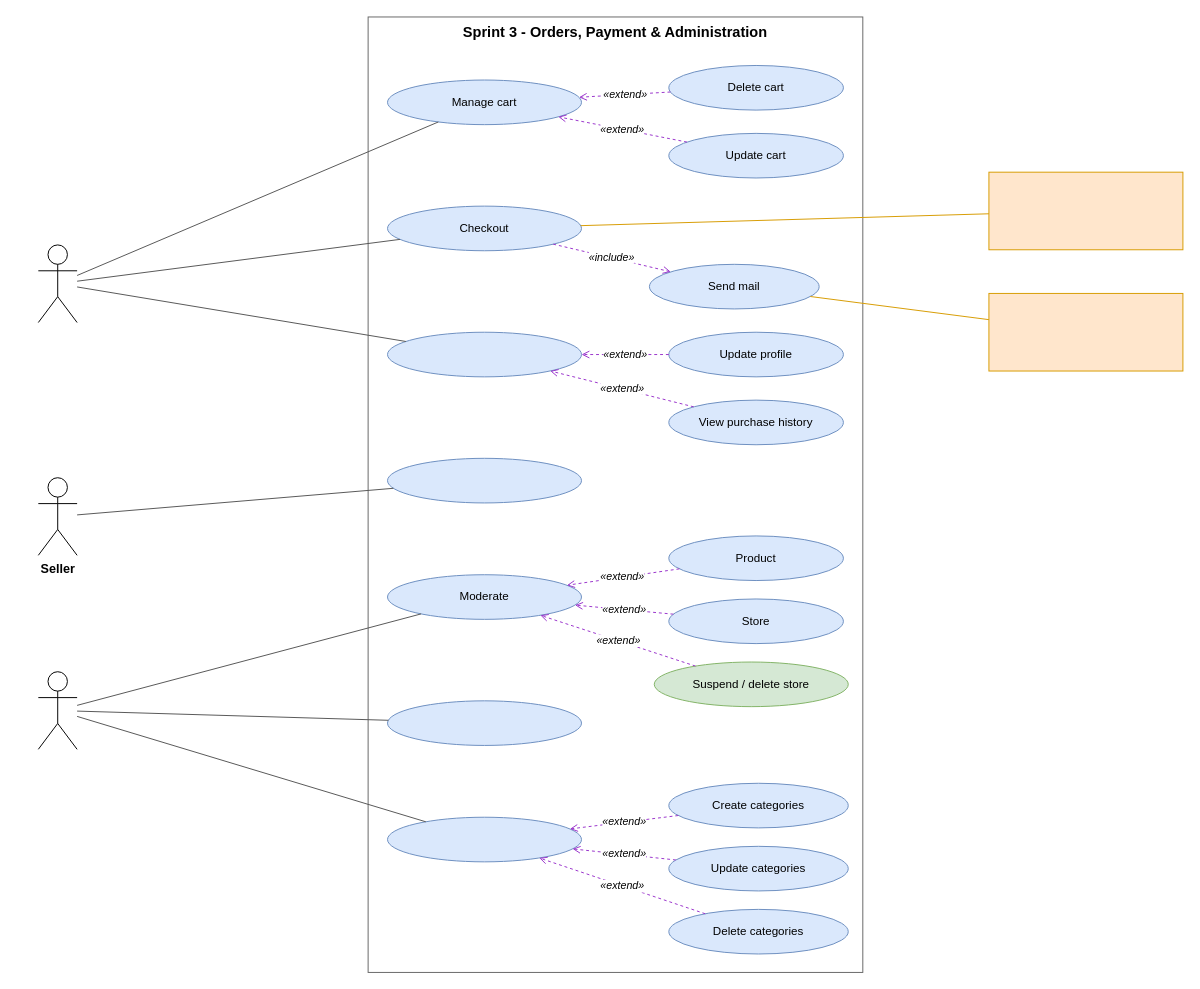
This 1200x989 diagram has some shape labels left out. Here are the shapes that lost their labels. From the top down, the centre of each, then its label:
At point 1085,210: "«system» Stripe payment gateway".
At point 57,283: "Customer".
At point 1085,331: "«system» Email service confirmation email".
At point 484,354: "Manage profile".
At point 484,480: "View store orders".
At point 57,710: "Administrator".
At point 484,722: "Curate featured content".
At point 484,839: "Manage categories".
